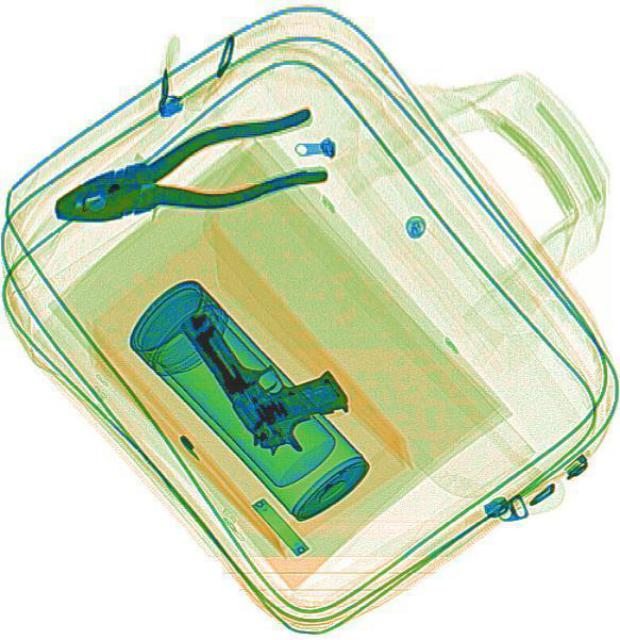Gun: (175, 266, 355, 470)
Pliers: (40, 100, 326, 250)
